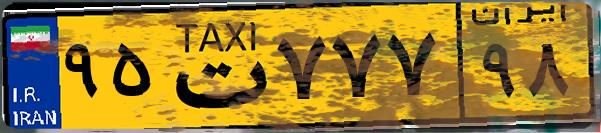5: (110, 28, 158, 98)
7: (270, 28, 330, 110), (385, 28, 445, 110), (330, 28, 385, 110)
8: (525, 38, 570, 115)
9: (57, 26, 110, 100), (475, 38, 525, 113)
ت: (158, 12, 270, 120)
